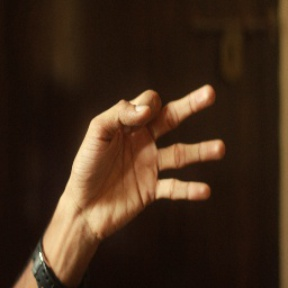K: (63, 82, 230, 228)
